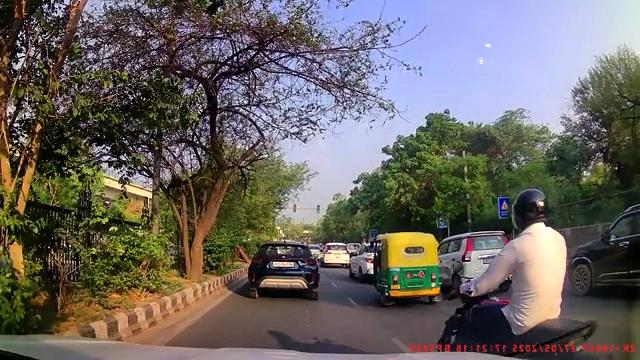motorcycle_with_helmet: (436, 187, 598, 356)
